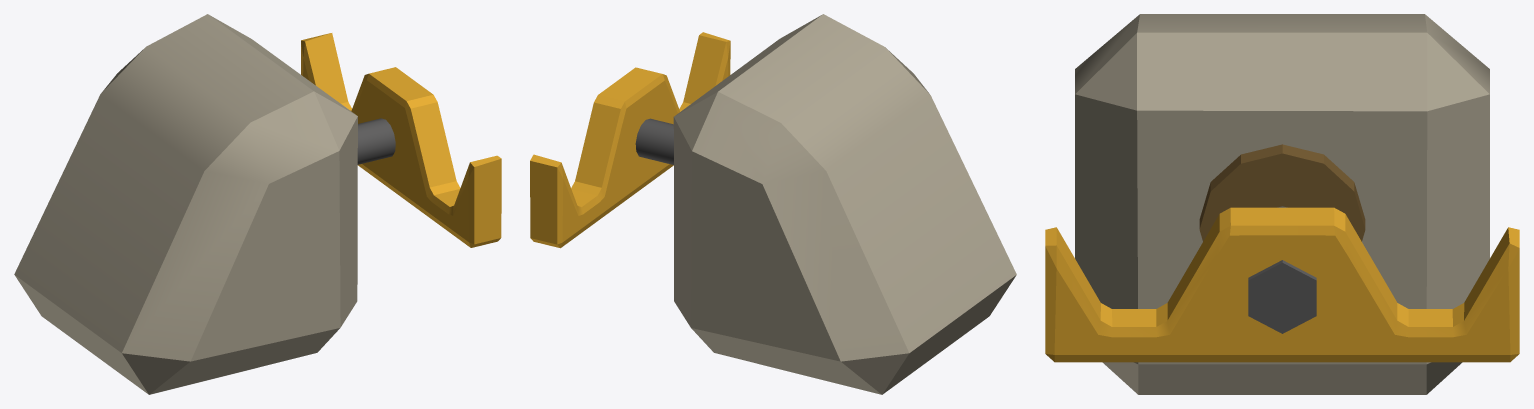
File: control1.fbx
3 views of the same model, side by side, from view 1: azimuth 30°, elevation 25°; view 2: azimuth 150°, elevation 25°; view 3: azimuth 270°, elevation 25° (orthographic). The views are drawn at different scales.
Parts seen in each view (by area): view 1: pCube1, pCube2, pCylinder2; view 2: pCube1, pCube2, pCylinder2; view 3: pCube1, pCube2, pCylinder1, pCylinder3.
Part boxes in pixels (x1,y1,x2,y2): pCube1: (14, 14, 357, 394); pCube2: (301, 33, 501, 247); pCylinder2: (357, 118, 395, 164); pCube1: (673, 14, 1016, 394); pCube2: (530, 32, 730, 248); pCylinder2: (635, 118, 673, 164); pCube1: (1075, 14, 1489, 394); pCube2: (1045, 207, 1519, 362); pCylinder1: (1199, 144, 1365, 241); pCylinder3: (1248, 260, 1316, 333).
Size of the model in its own units: 6.72 by 4.79 by 5.72.
